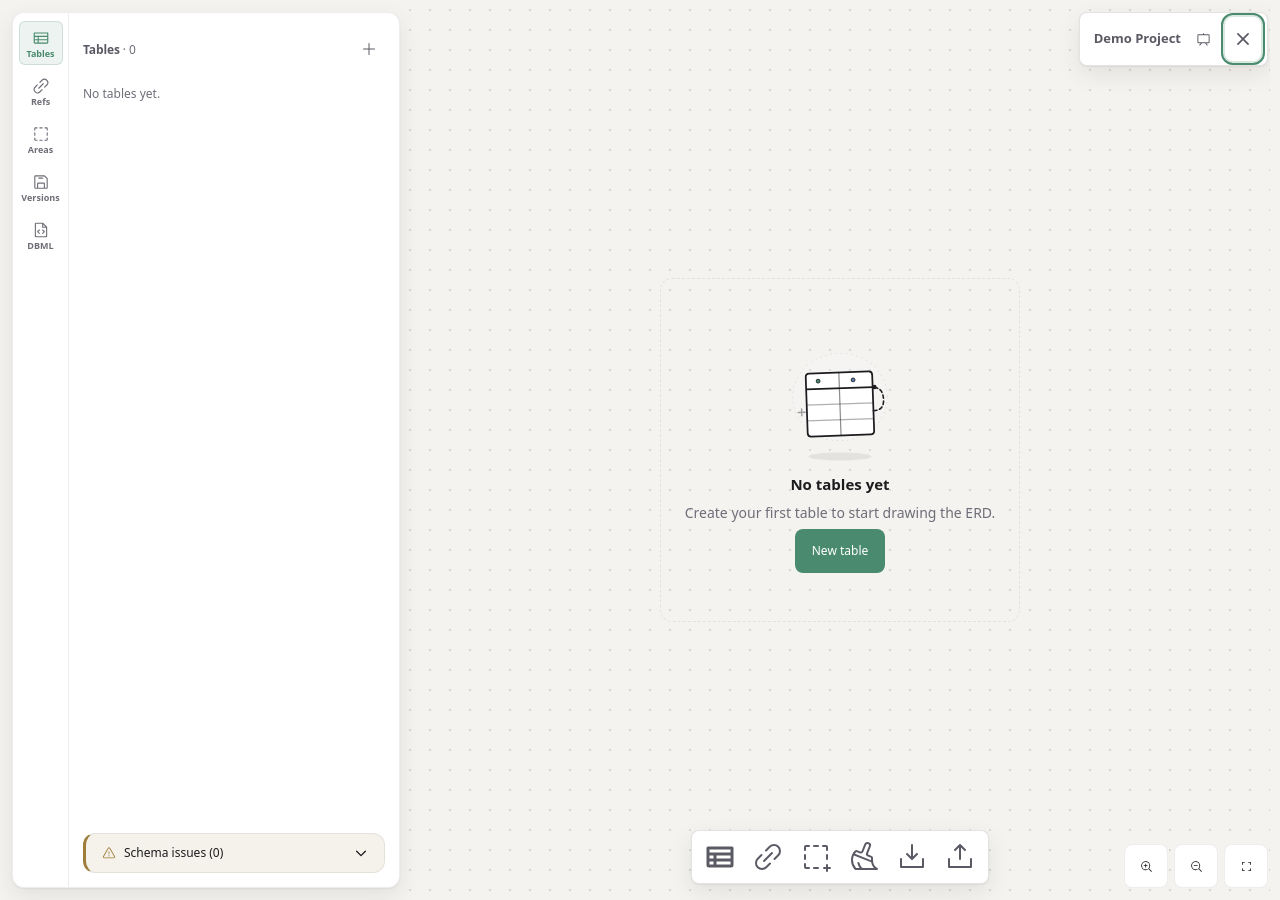
it: Ronde 5 ITEM 2+3: auto-buka + tab Relations › placeholder hanya bila 0 tabel / 0 relasi
Expected: the text "No tables yet." is shown, [83,85,160,102]
Click the tab "Refs". click: click(40, 91)
box: [18,69,62,113]
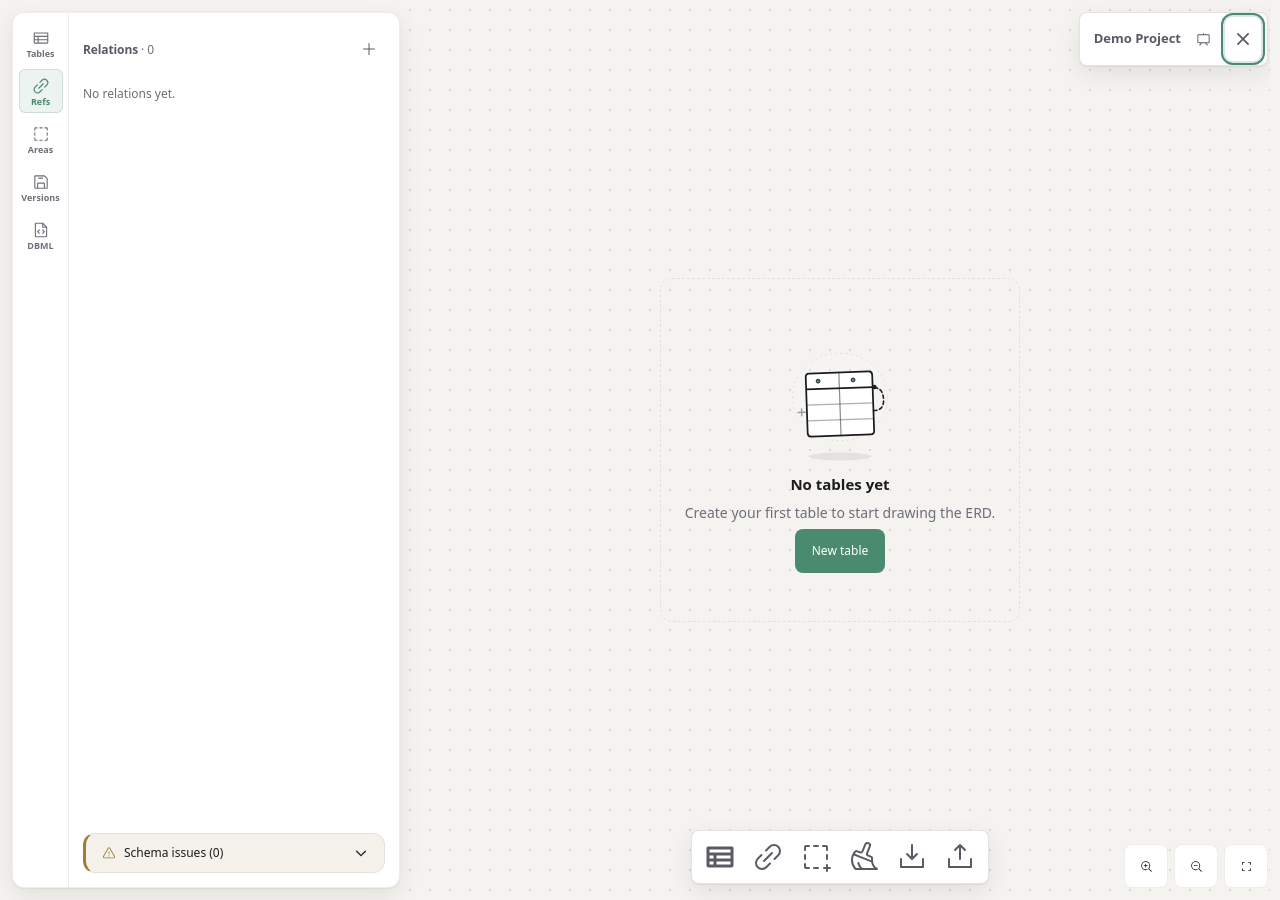
Expected: the text "No relations yet." is shown, [83,85,175,102]
